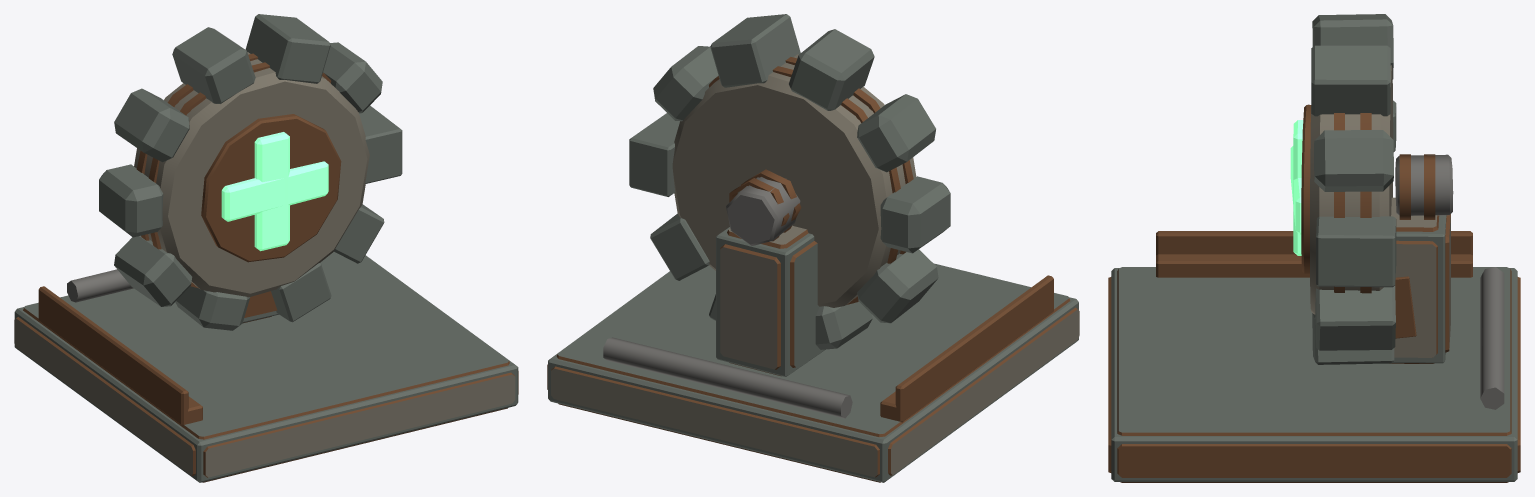
Rendered from R4X_RepairBooster.fbx.
3 renders of one model, left to right at view 1: azimuth 30°, elevation 25°; view 2: azimuth 150°, elevation 25°; view 3: azimuth 270°, elevation 25°, orthographic. The views are drawn at different scales.
Parts seen in each view (by area): view 1: R4X_RepairBooster_Body; view 2: R4X_RepairBooster_Body; view 3: R4X_RepairBooster_Body.
Part boxes in pixels (x1=…): R4X_RepairBooster_Body: x1=14, y1=14, x2=518, y2=482; R4X_RepairBooster_Body: x1=547, y1=14, x2=1079, y2=482; R4X_RepairBooster_Body: x1=1108, y1=14, x2=1520, y2=482.
Size of the model in its own units: 0.52 by 0.5121 by 0.52.
